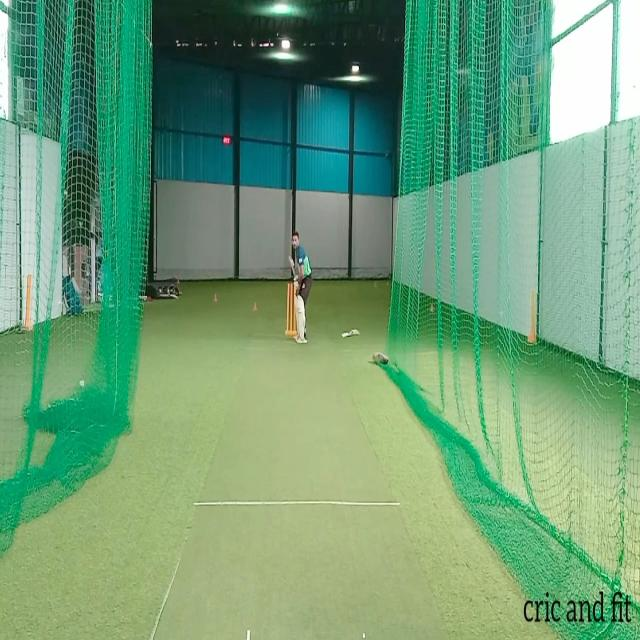batsman: (288, 230, 313, 345)
